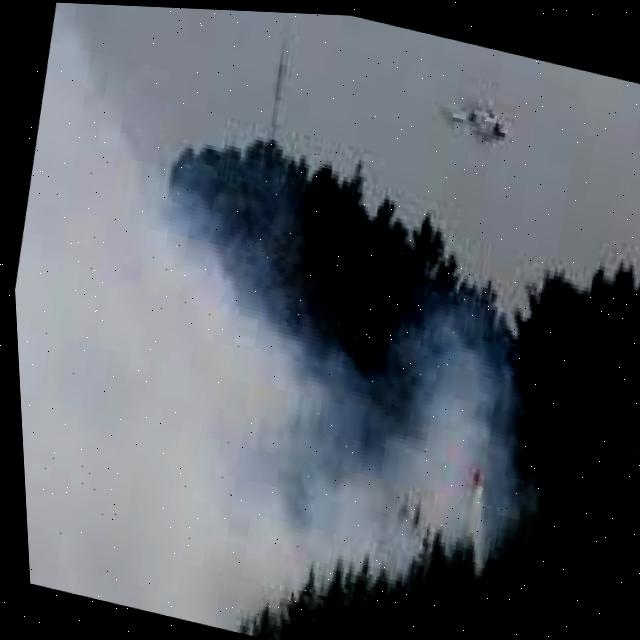smoke: (13, 31, 506, 630)
